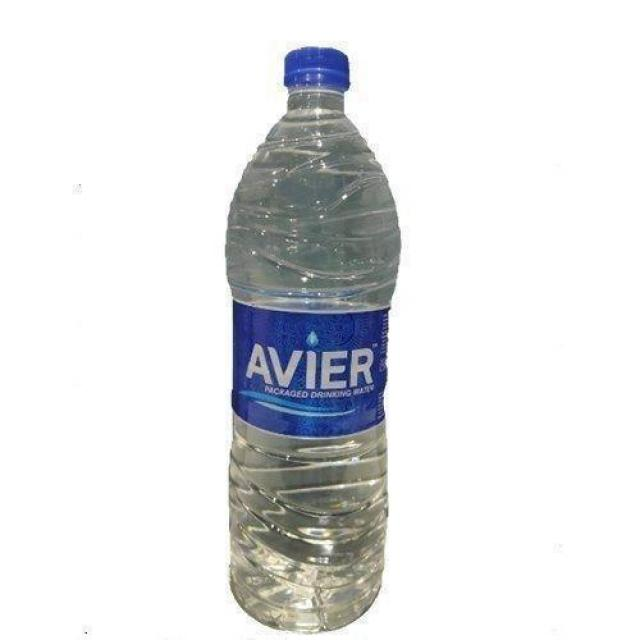bottle-plastic: (221, 42, 406, 638)
